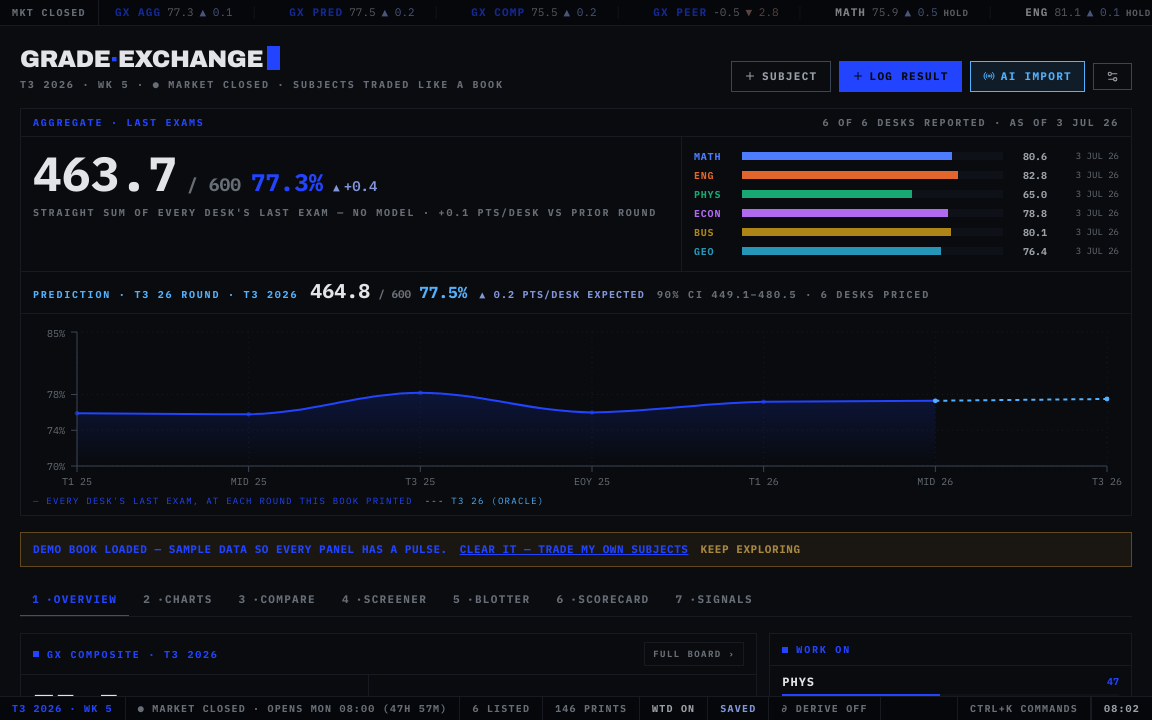
Scenario: App boots past the loading gate › opens the AI import from the header, next to Log result
Click the button "AI import" at (1027, 76), box [970,61,1085,92]
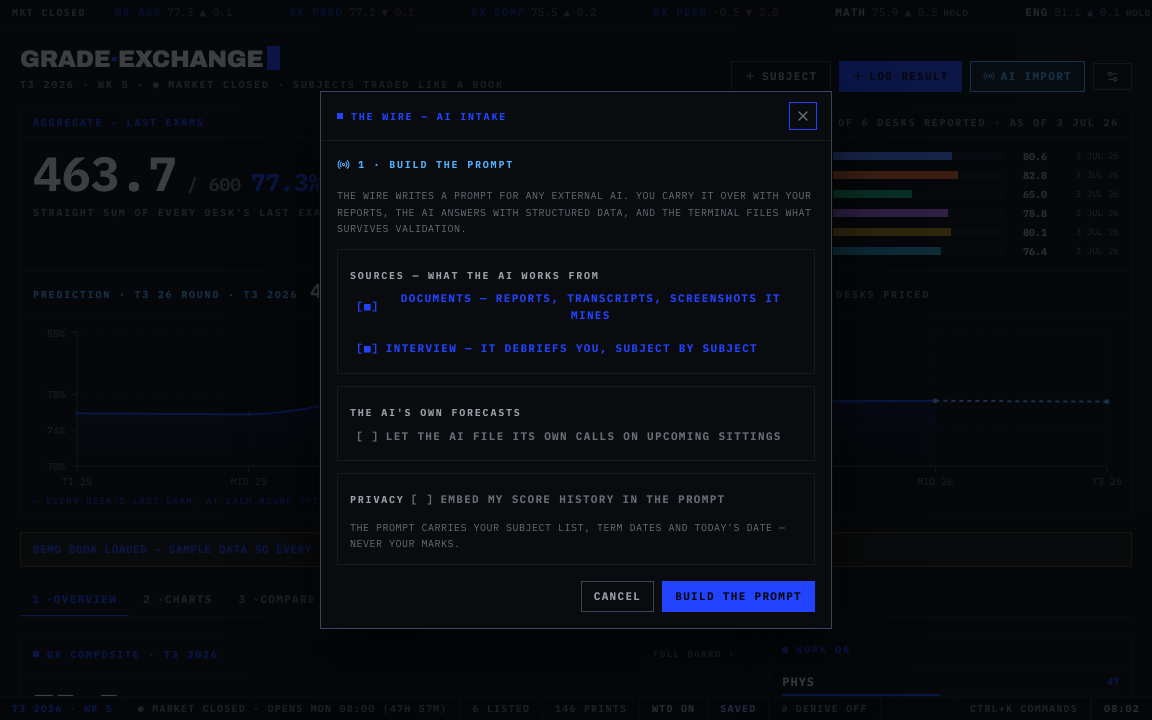
Now the text "THE WIRE — AI INTAKE" is shown, box [337,109,507,124]
